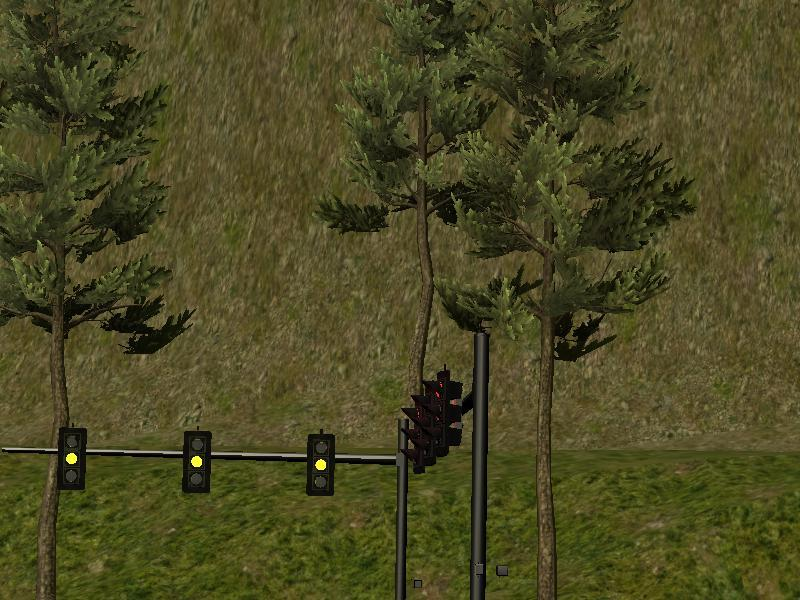Yellow: (182, 431, 212, 495), (306, 433, 336, 495), (58, 428, 87, 491)
